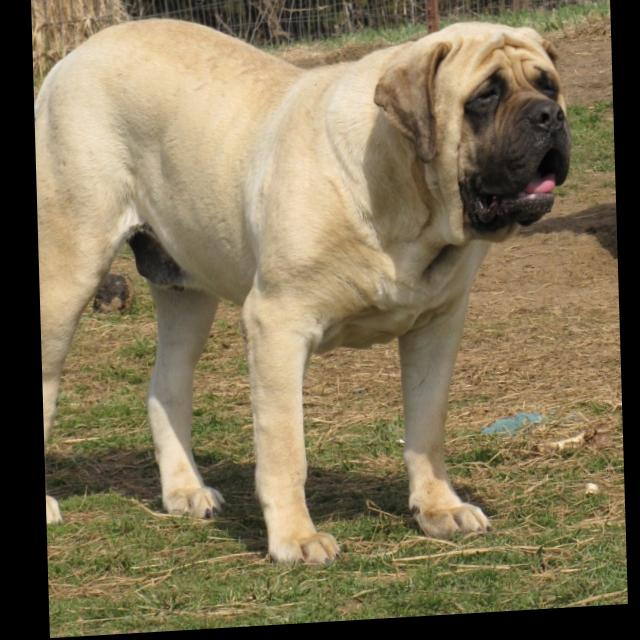mastiff: (33, 1, 582, 584)
